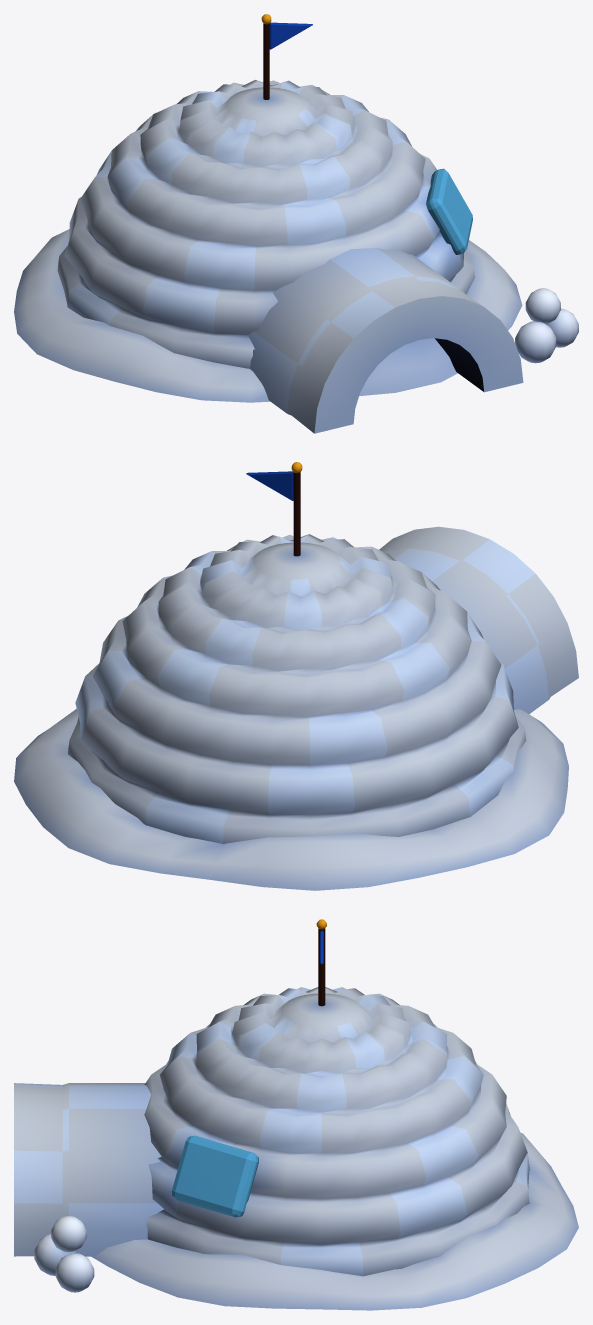
Rendered from Igloo.fbx.
The picture shows the model from 3 angles, top to bottom: view 1: azimuth 30°, elevation 25°; view 2: azimuth 150°, elevation 25°; view 3: azimuth 270°, elevation 25°; orthographic projection. The views are drawn at different scales.
Visible parts, largest first — view 1: Igloo; view 2: Igloo; view 3: Igloo.
Part boxes in pixels (box(x1,y1,x2,y2)): Igloo: box(14, 14, 578, 433); Igloo: box(14, 462, 578, 890); Igloo: box(14, 919, 578, 1310).
Size of the model in its own units: 3.38 by 2.17 by 3.71.
